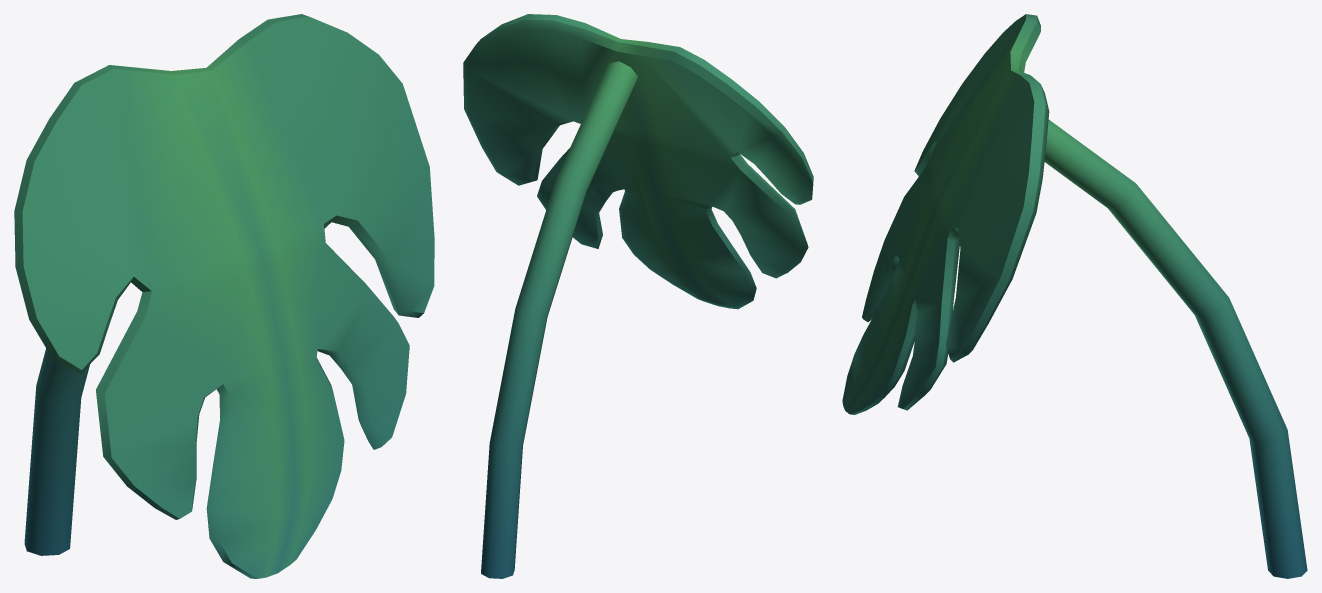
The model's file is Large Monstera Leaf-5YAuVDKTti.glb.
The picture shows the model from 3 angles, left to right: view 1: azimuth 30°, elevation 25°; view 2: azimuth 150°, elevation 25°; view 3: azimuth 270°, elevation 25°; orthographic projection. The views are drawn at different scales.
Visible parts, largest first — view 1: monstera_leaf_large_A; view 2: monstera_leaf_large_A; view 3: monstera_leaf_large_A.
Boxes of the visible parts, x1,y1,x2,y2 form: monstera_leaf_large_A: (14, 14, 434, 578); monstera_leaf_large_A: (463, 14, 813, 578); monstera_leaf_large_A: (842, 14, 1307, 578).
Bounding box in the file's own units: 1.06 × 1.45 × 1.18.
Materials: 1 (1 with a texture image).
